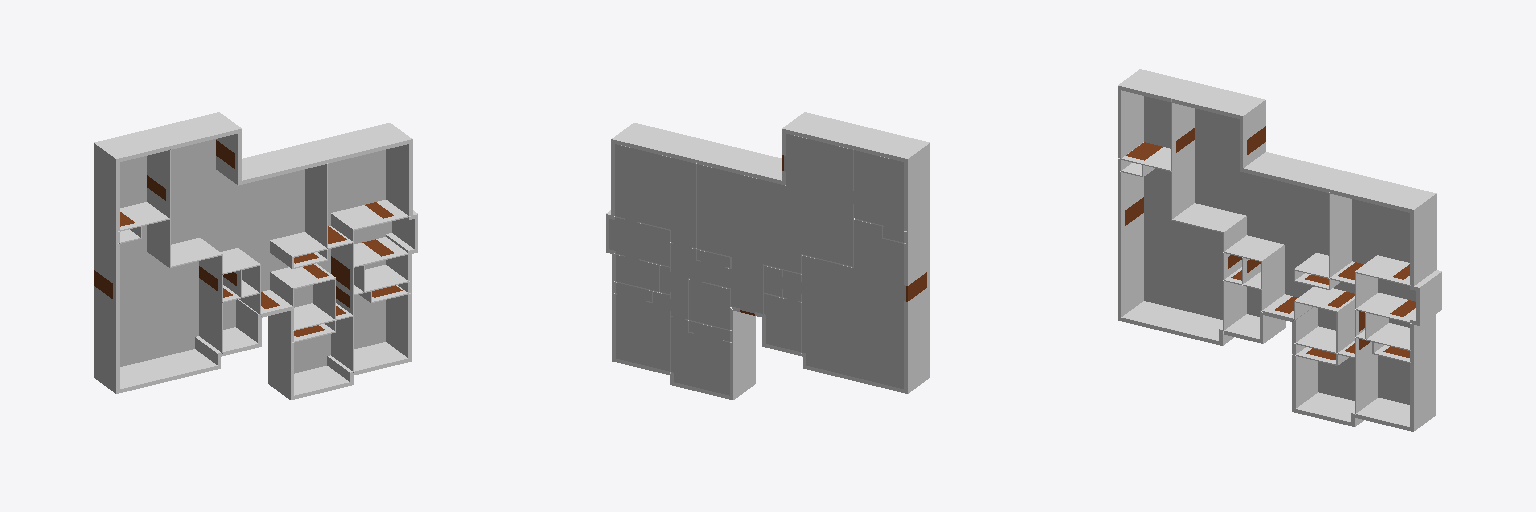
3 renders of one model, left to right at view 1: azimuth 30°, elevation 25°; view 2: azimuth 150°, elevation 25°; view 3: azimuth 330°, elevation 25°, orthographic.
Visible parts, largest first — view 1: 110mm_Brick__/_BlockWall, Wool,_Level_Loop_Carpet, 70mm_Stud_Wall, 700mm_Hinged_Door_-_6_panel, 900mm_Decorative_Entry_Door_1_-_38x89_Wall; view 2: Wool,_Level_Loop_Carpet, 110mm_Brick__/_BlockWall, 70mm_Stud_Wall; view 3: 110mm_Brick__/_BlockWall, Wool,_Level_Loop_Carpet, 70mm_Stud_Wall, 700mm_Hinged_Door_-_6_panel, 900mm_Decorative_Entry_Door_1_-_38x89_Wall.
Boxes of the visible parts, x1,y1,x2,y2 form: 110mm_Brick__/_BlockWall: [94, 112, 417, 399]; Wool,_Level_Loop_Carpet: [120, 139, 391, 373]; 70mm_Stud_Wall: [119, 150, 408, 371]; 700mm_Hinged_Door_-_6_panel: [147, 175, 393, 315]; 900mm_Decorative_Entry_Door_1_-_38x89_Wall: [94, 140, 279, 308]; Wool,_Level_Loop_Carpet: [609, 134, 905, 395]; 110mm_Brick__/_BlockWall: [606, 112, 929, 399]; 70mm_Stud_Wall: [615, 150, 904, 371]; 110mm_Brick__/_BlockWall: [1118, 69, 1441, 431]; Wool,_Level_Loop_Carpet: [1144, 96, 1415, 404]; 70mm_Stud_Wall: [1121, 102, 1415, 413]; 700mm_Hinged_Door_-_6_panel: [1176, 128, 1409, 353]; 900mm_Decorative_Entry_Door_1_-_38x89_Wall: [1125, 126, 1297, 313].
Size of the model in its own units: 19 by 17.06 by 2.48.